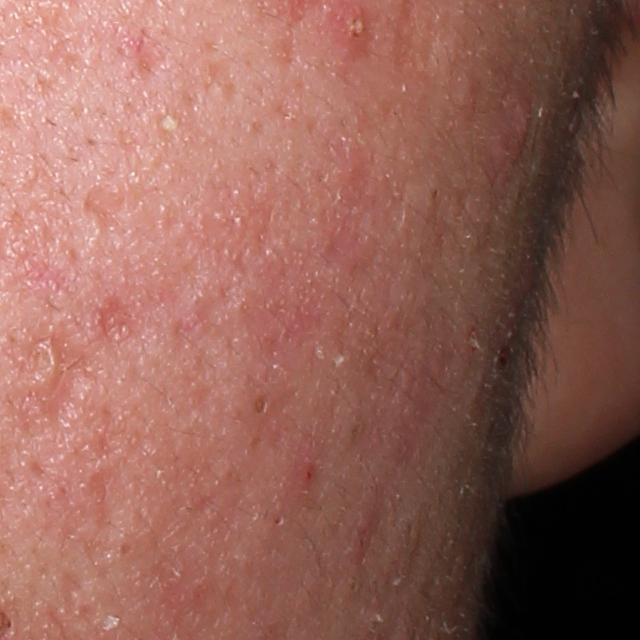atrophic_scar: (35, 336, 110, 443), (84, 460, 122, 533), (85, 185, 130, 234), (94, 292, 138, 342)
comedo: (250, 395, 272, 418)
papule: (326, 4, 374, 54), (509, 98, 534, 146), (298, 465, 317, 485)
pustule: (148, 105, 183, 142)
